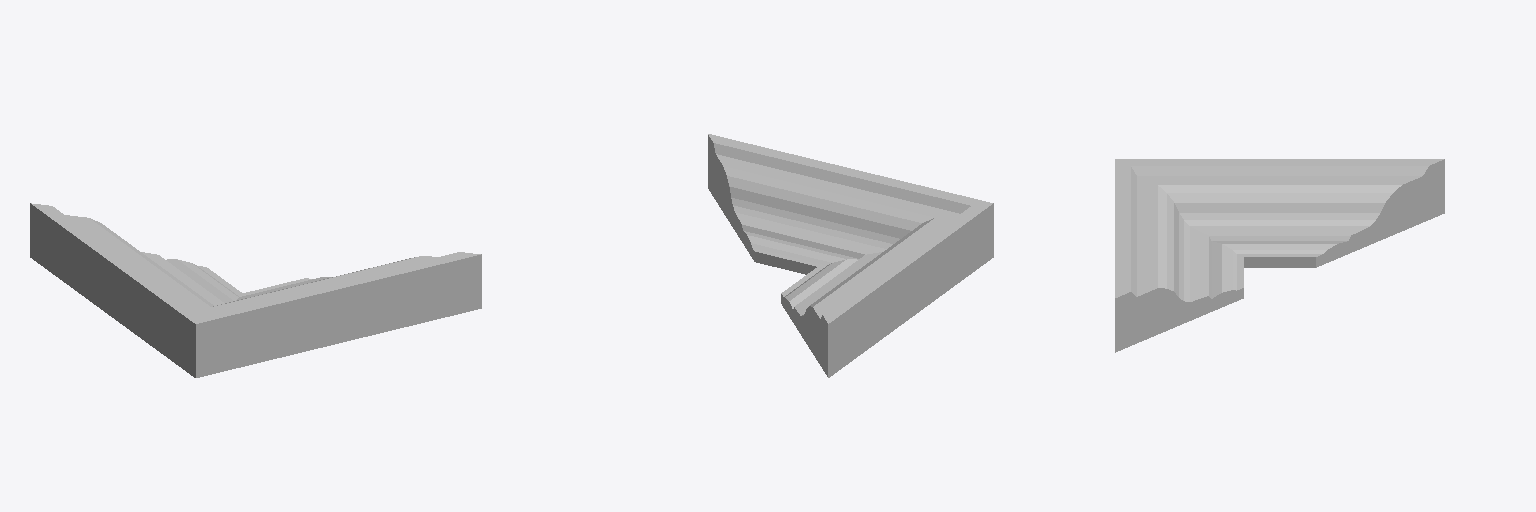
The model's file is frame_lower_left.obj.
3 renders of one model, left to right at view 1: azimuth 30°, elevation 25°; view 2: azimuth 150°, elevation 25°; view 3: azimuth 270°, elevation 25°, orthographic.
Bounding box in the file's own units: 0.05 × 0.0091 × 0.05.